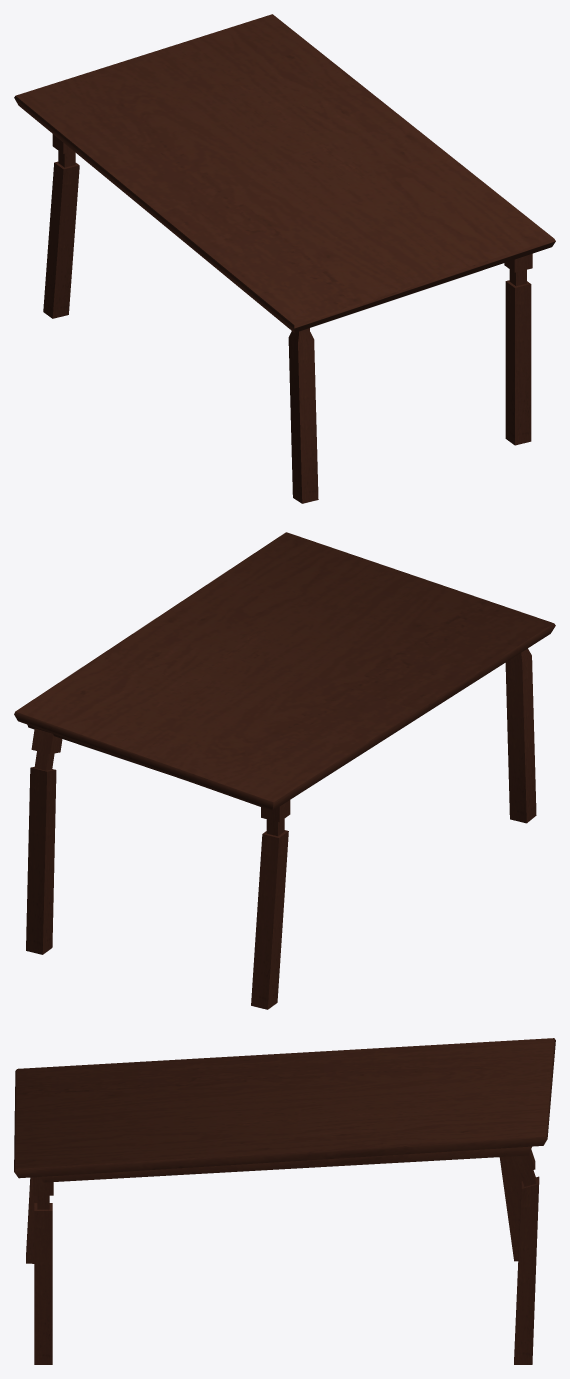
Rendered from FPH_Table.fbx.
3 renders of one model, top to bottom at view 1: azimuth 30°, elevation 25°; view 2: azimuth 150°, elevation 25°; view 3: azimuth 270°, elevation 25°, orthographic. The views are drawn at different scales.
Parts seen in each view (by area): view 1: FPH_Table; view 2: FPH_Table; view 3: FPH_Table.
Boxes of the visible parts, box(x1,y1,x2,y2) form: FPH_Table: box(14, 14, 555, 503); FPH_Table: box(14, 532, 555, 1009); FPH_Table: box(14, 1038, 555, 1364).
Bounding box in the file's own units: 5.75 × 4.94 × 10.43.
Materials: 1 (1 with a texture image).
